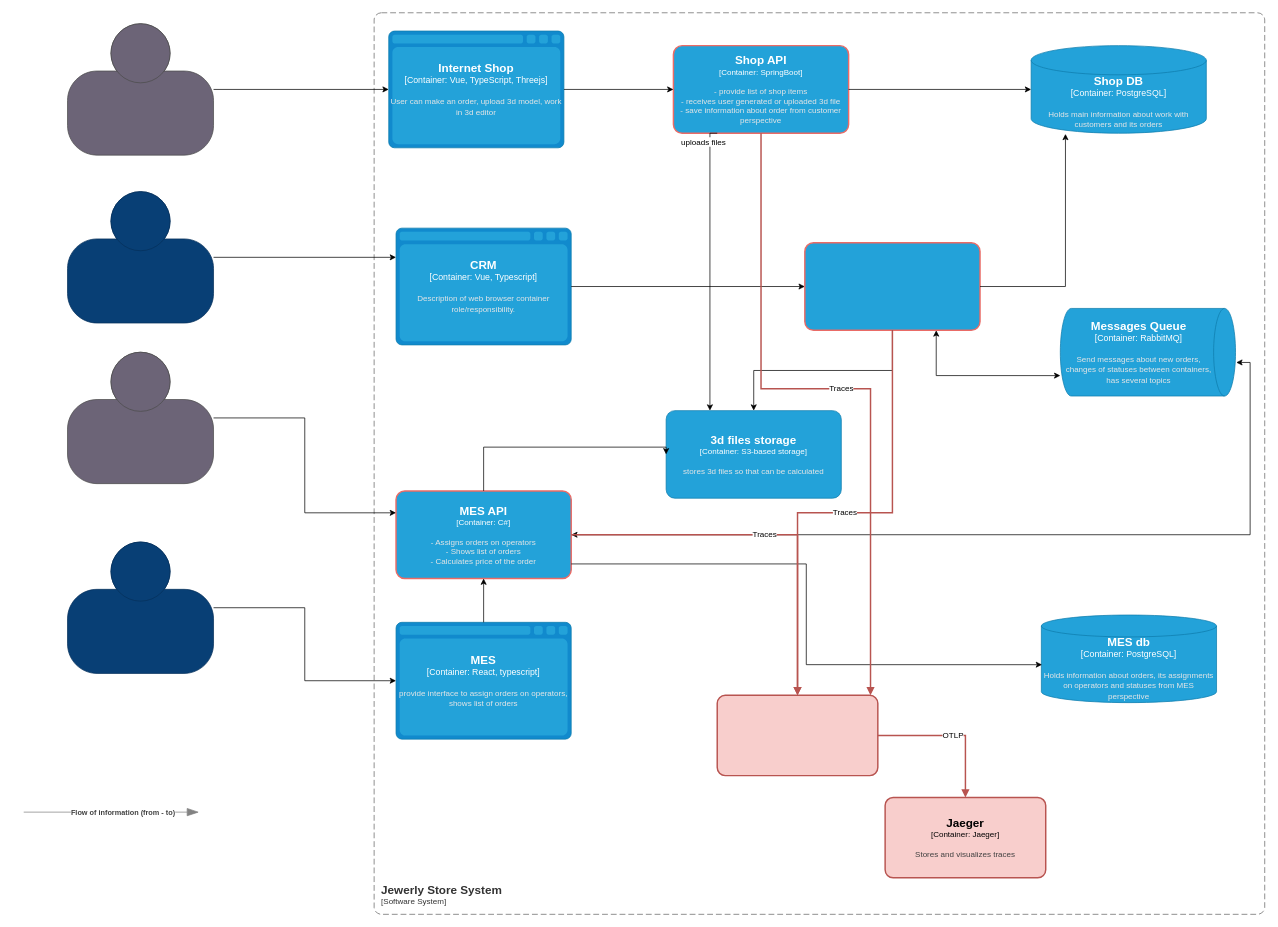
The diagram is 1278 pixels wide and 927 high, and some of its shapes have lost their labels. The shapes that lost their labels are listed below. From the top down, each one's centre as x and y in pixels, then its label:
At (140,89): "Customer [Person] Description of external person.".
At (140,257): "Seller [Person] Operates with order, confirms manufacturing for the user".
At (892,286): "CRM API [Container: SpringBoot] Description of container role/responsibility.".
At (140,417): "API user [Person] Description of external person.".
At (140,607): "Operator [Person] Takes order in work, manufactures jewerly".
At (797,735): "OpenTelemetry Collector [Container: OpenTelemetry] Receives and exports traces".
